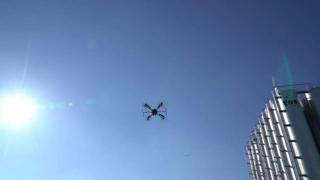UAV: (142, 102, 167, 121)
